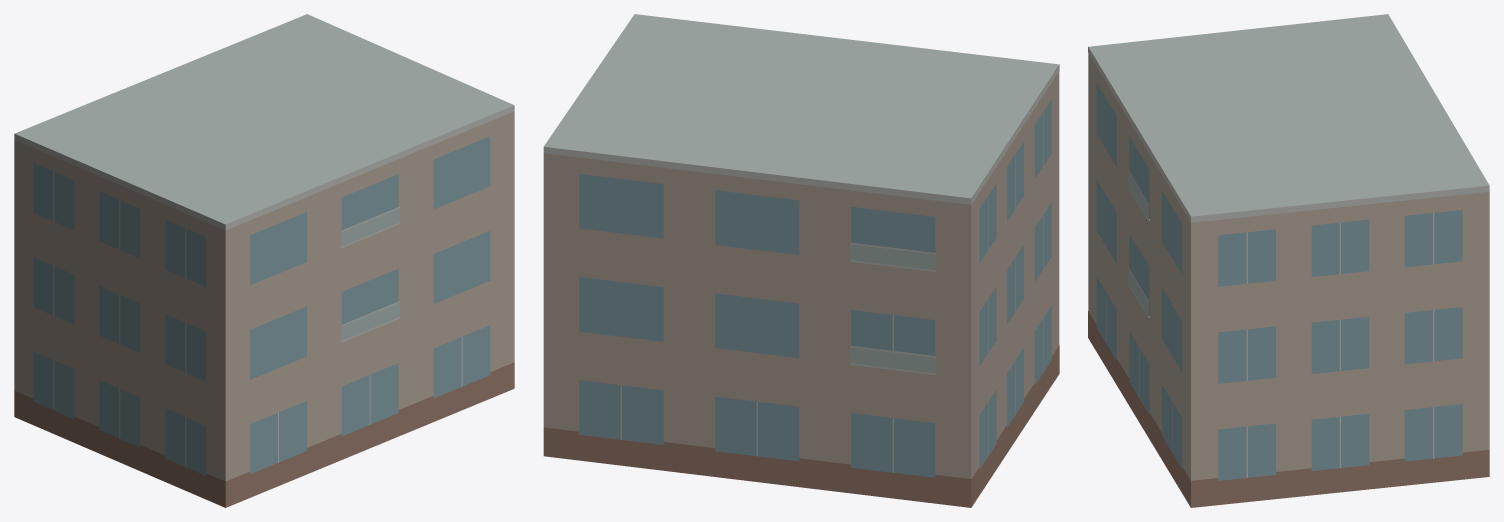
Rendered from survey-upis-32812552.glb.
3 views of the same model, side by side, from view 1: azimuth 30°, elevation 25°; view 2: azimuth 150°, elevation 25°; view 3: azimuth 270°, elevation 25° (orthographic). The views are drawn at different scales.
Visible parts, largest first — view 1: survey-upis-32812552.tmp; view 2: survey-upis-32812552.tmp; view 3: survey-upis-32812552.tmp.
Boxes of the visible parts, x1,y1,x2,y2 form: survey-upis-32812552.tmp: [14, 14, 514, 507]; survey-upis-32812552.tmp: [543, 14, 1059, 507]; survey-upis-32812552.tmp: [1088, 14, 1489, 507].
Size of the model in its own units: 17.33 by 11.6 by 14.5.
